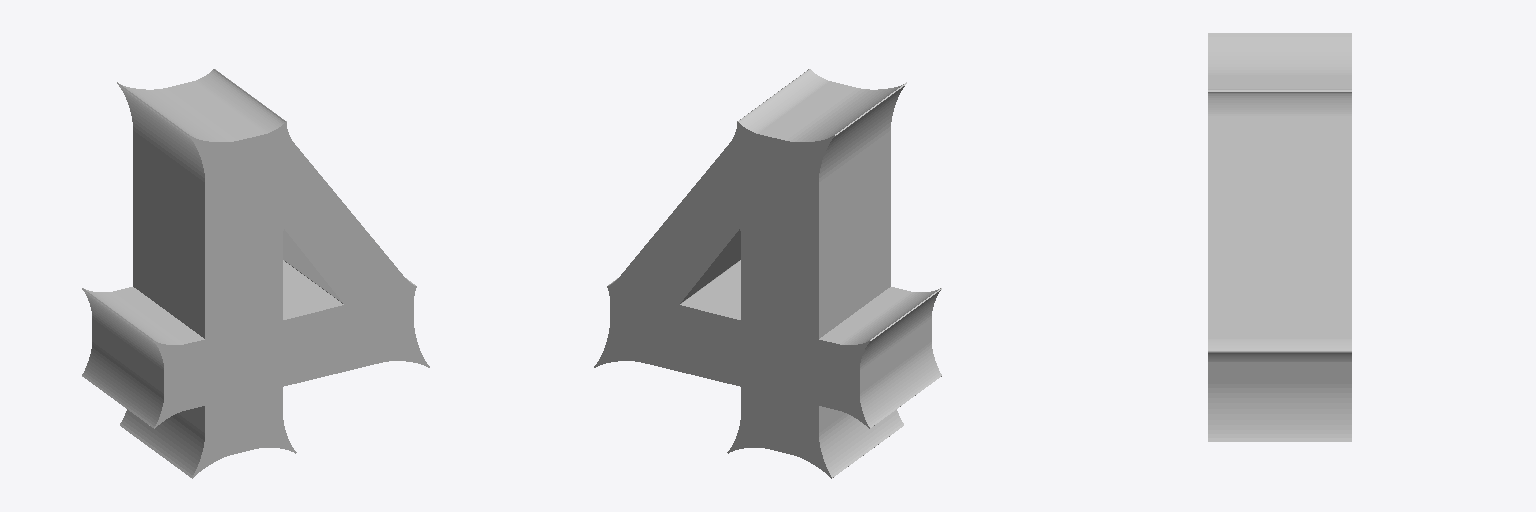
The picture shows the model from 3 angles: view 1: azimuth 30°, elevation 25°; view 2: azimuth 150°, elevation 25°; view 3: azimuth 270°, elevation 25°; orthographic projection.
Visible parts, largest first — view 1: テキスト; view 2: テキスト; view 3: テキスト.
Boxes of the visible parts, box(x1,y1,x2,y2) form: テキスト: box(82, 69, 429, 478); テキスト: box(594, 69, 941, 478); テキスト: box(1208, 33, 1351, 441).
Size of the model in its own units: 0.4424 by 0.5268 by 0.2.